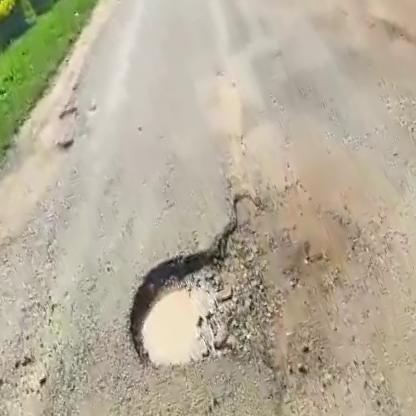pothole: (112, 216, 313, 393)
